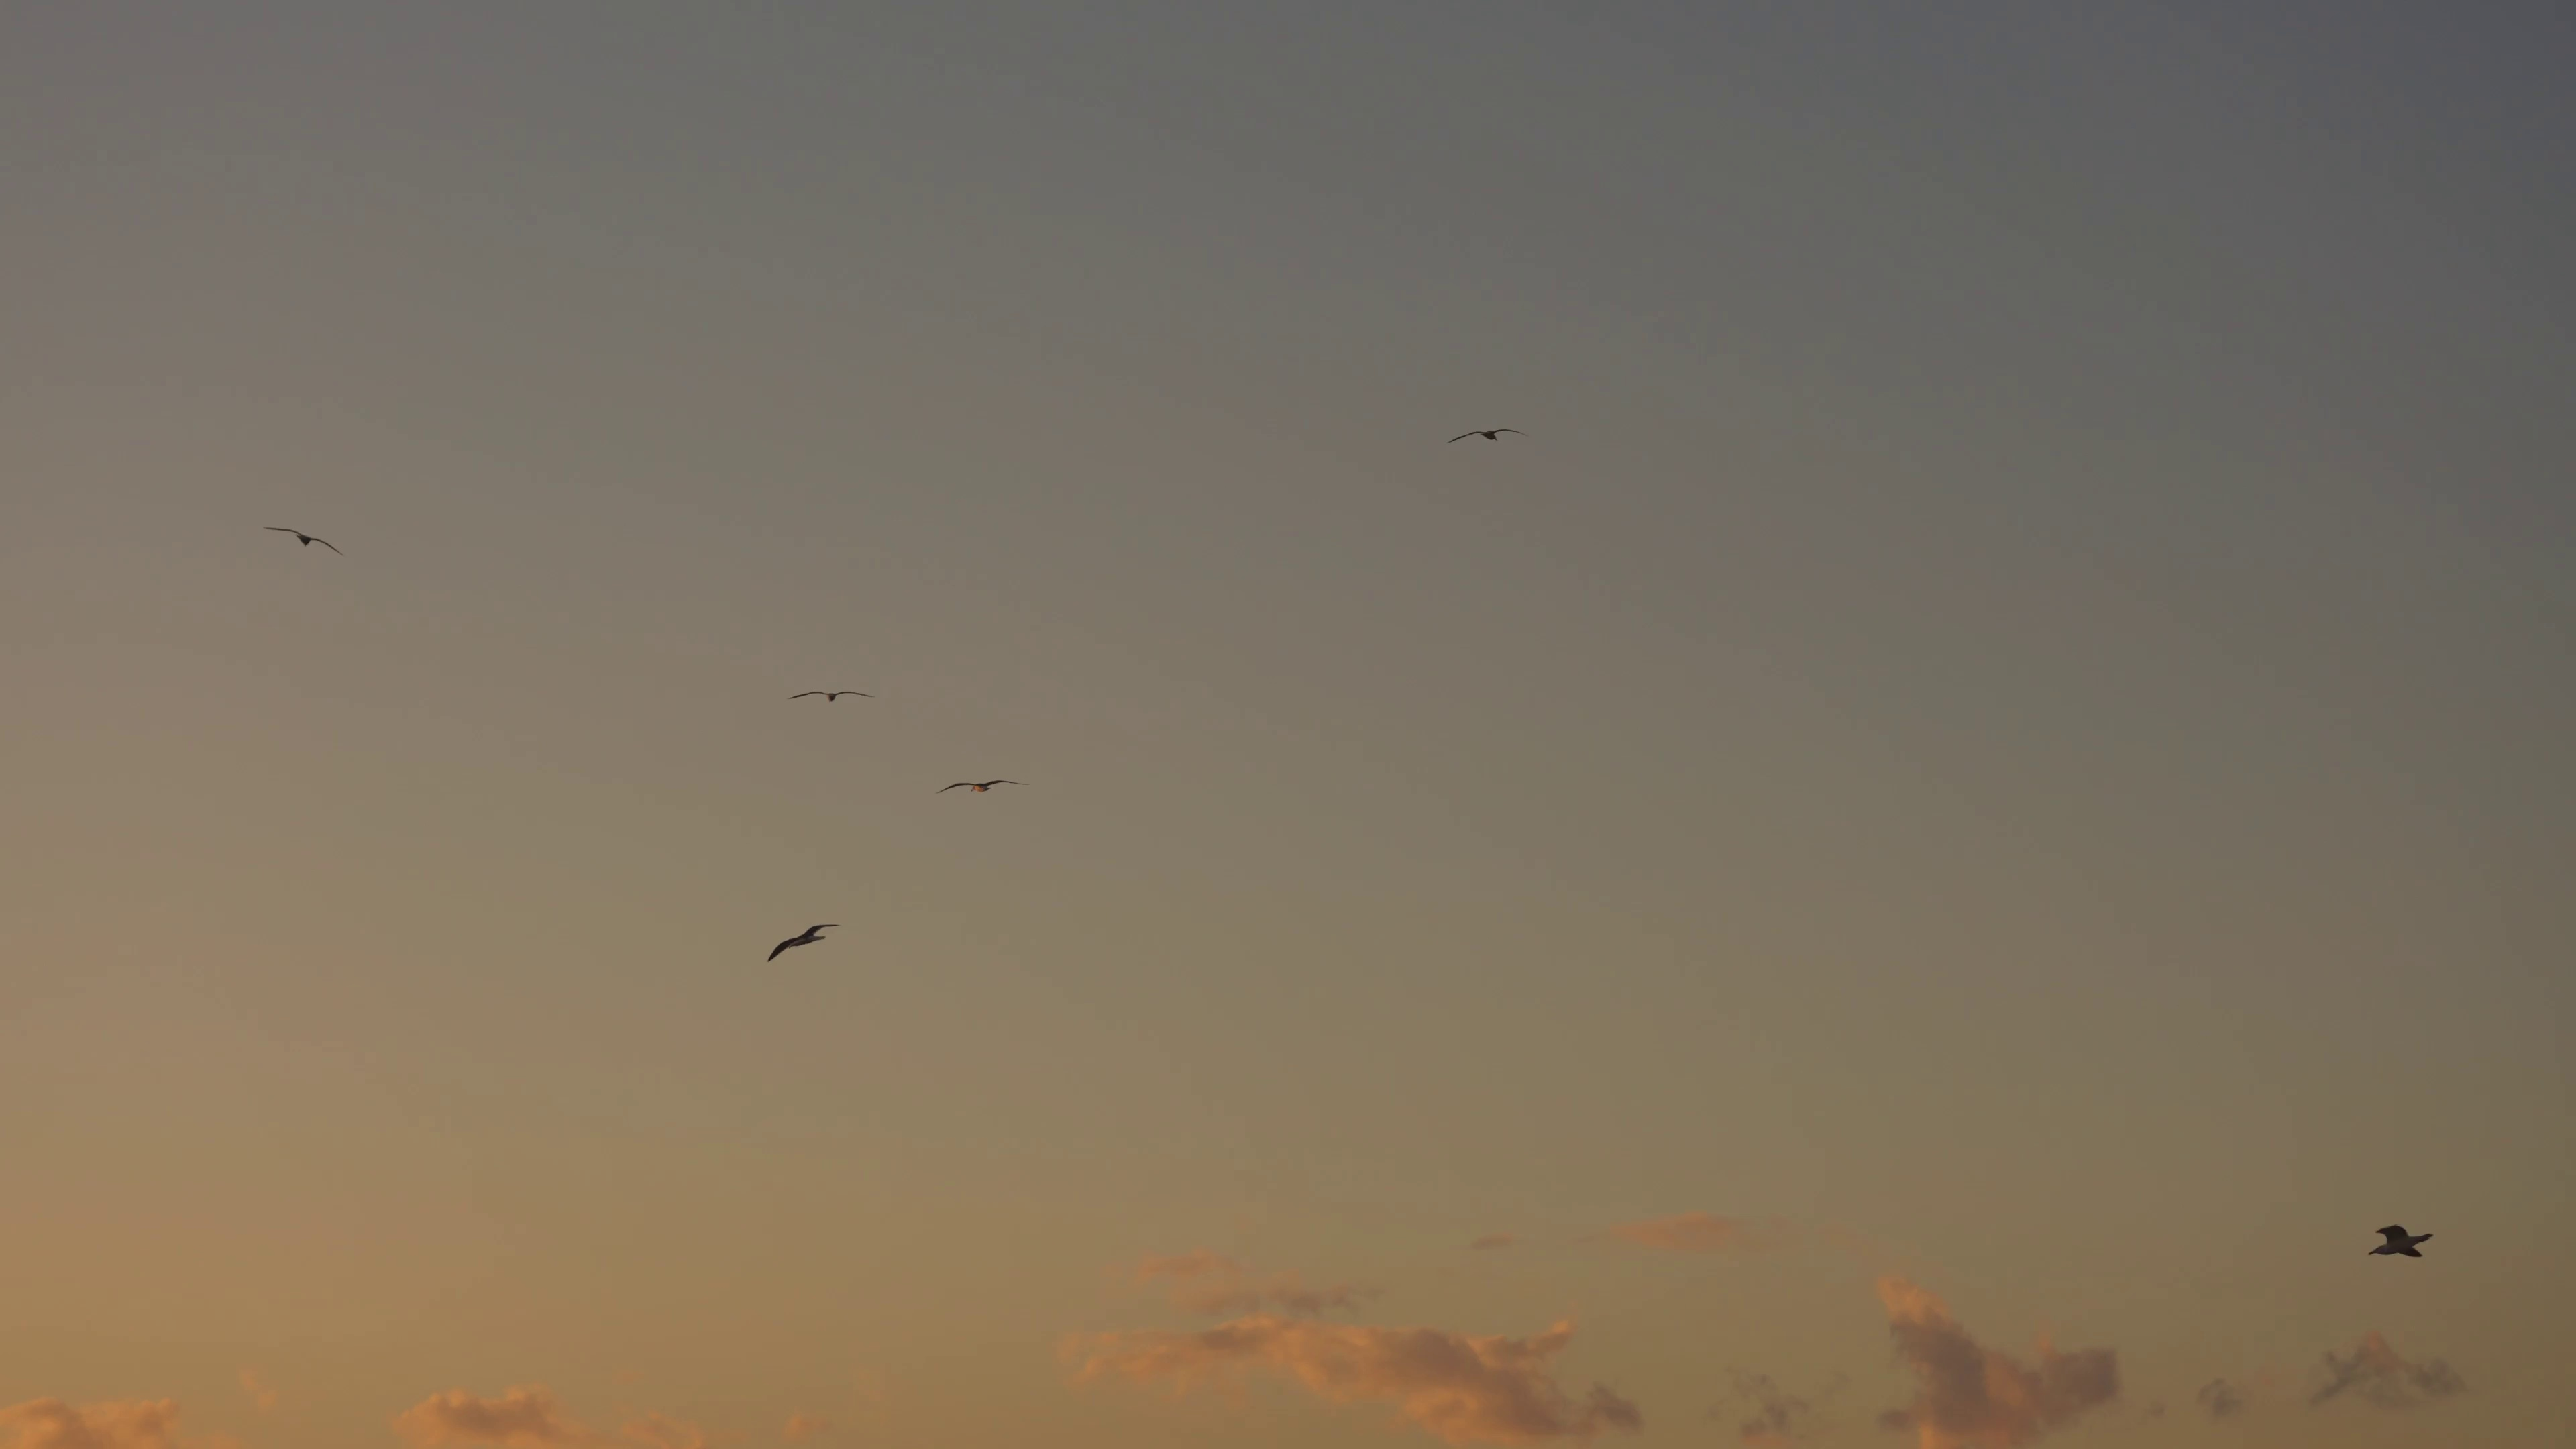bird: (262, 520, 347, 559), (764, 918, 832, 964), (2369, 1221, 2438, 1261), (789, 683, 874, 708), (1438, 428, 1529, 448), (939, 777, 1021, 794)
